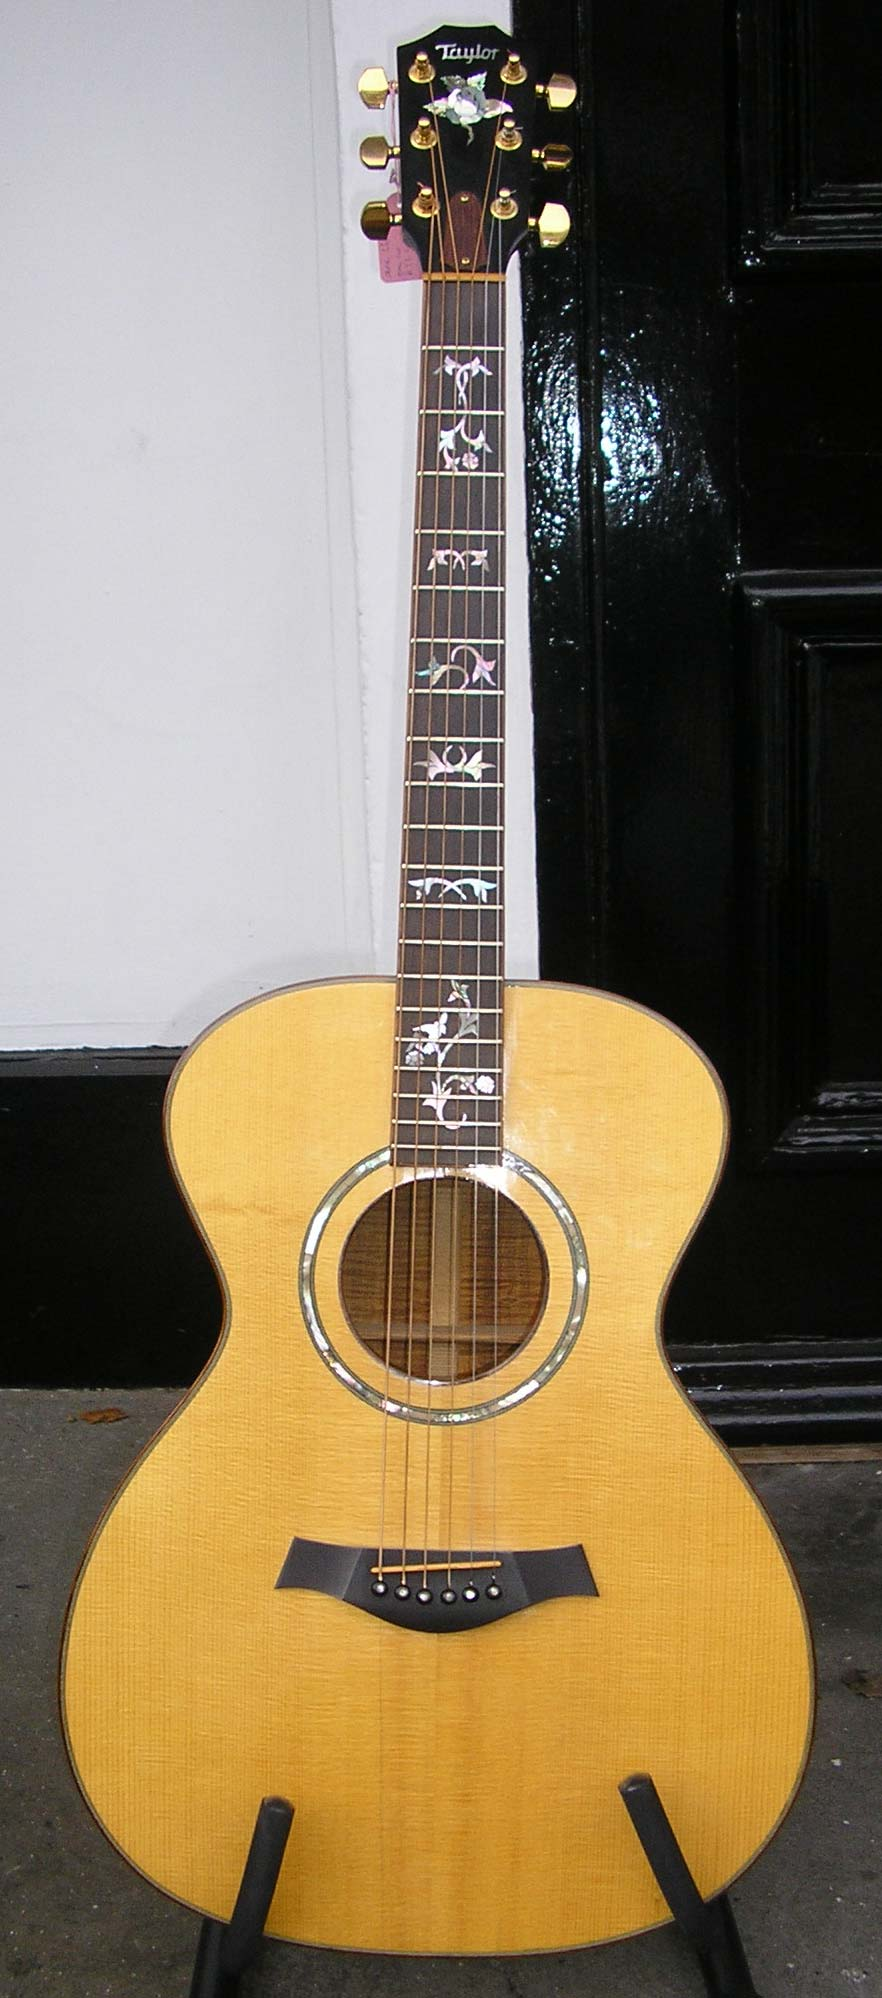guitar: (51, 17, 823, 1965)
